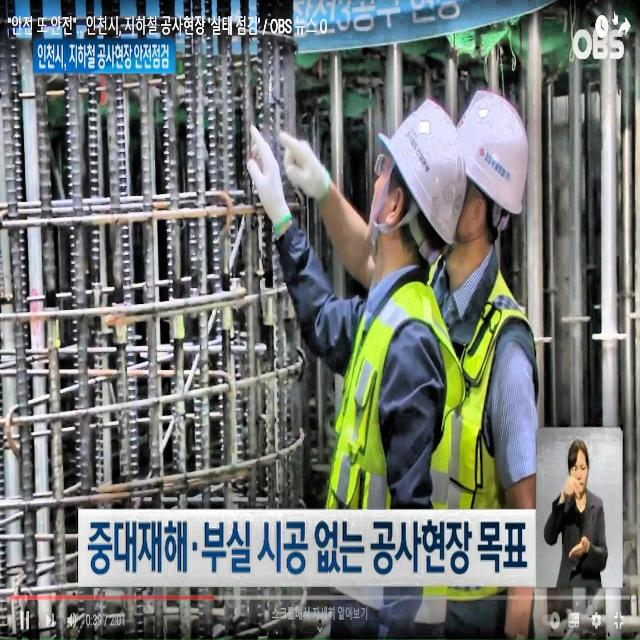safety_helmet: (379, 82, 467, 254), (449, 74, 527, 223)
safety_jacket: (389, 259, 541, 600), (320, 283, 462, 608)
